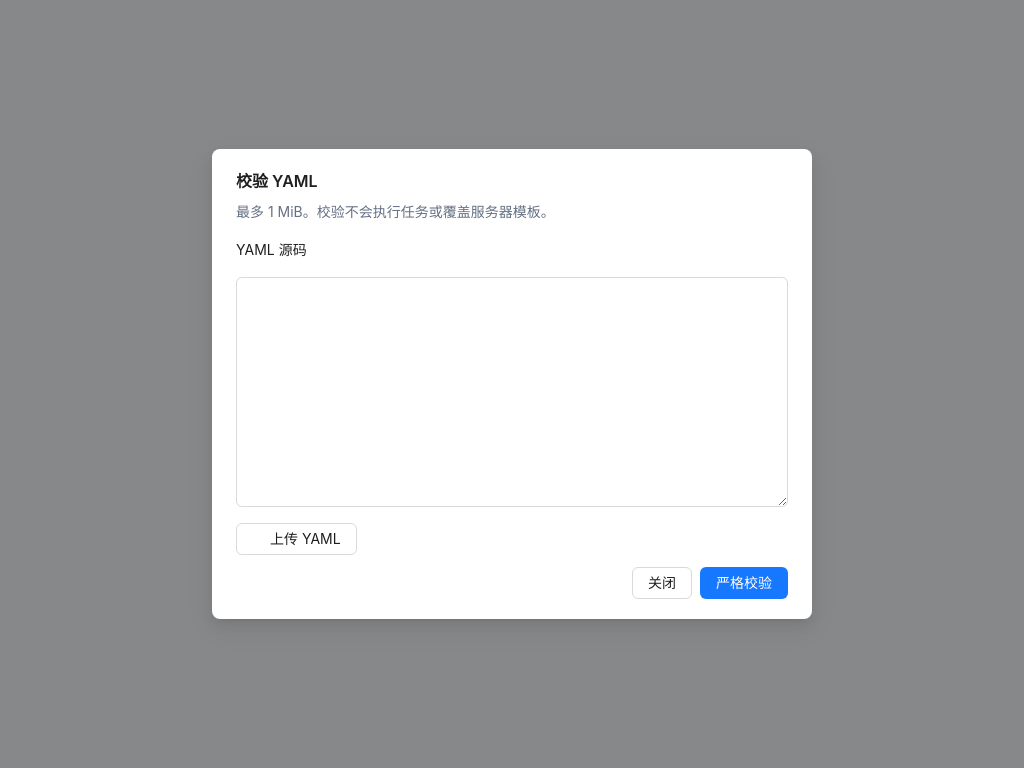
Scenario: 产物与 YAML 安全呈现 › 校验成功与上游逐字段错误显示，保留源码
In the text box labelled "YAML 源码": (512,392) [236,277,788,507], type "name: doc"
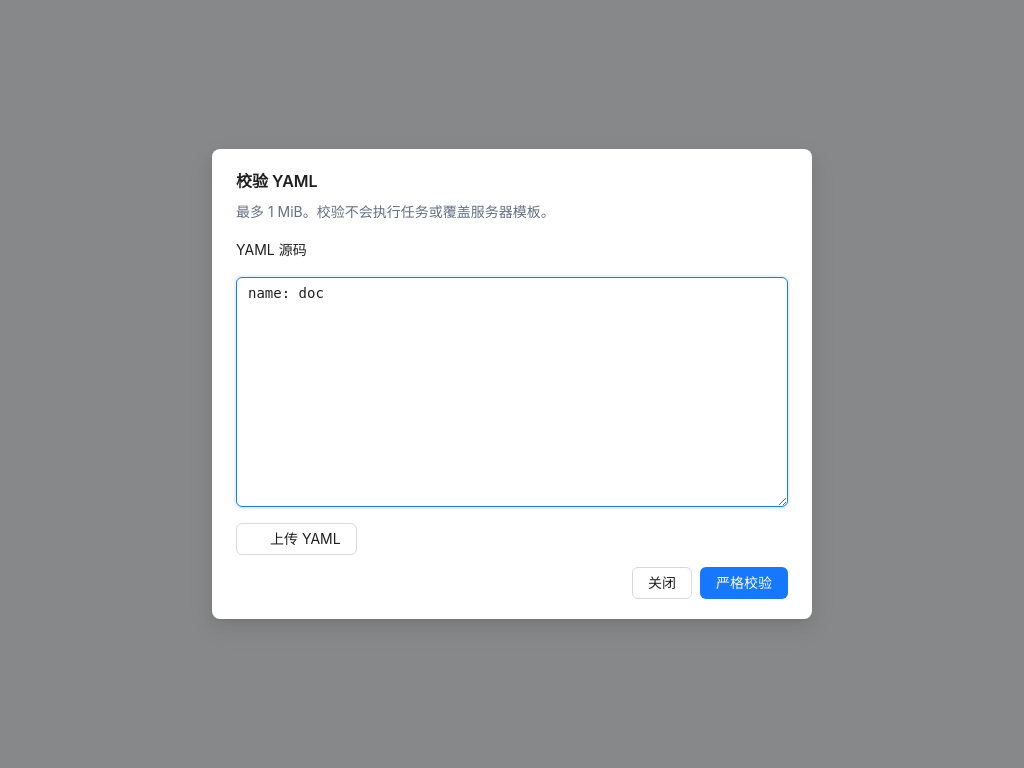
Click the button "严格校验": (744,583) [700,567,788,599]
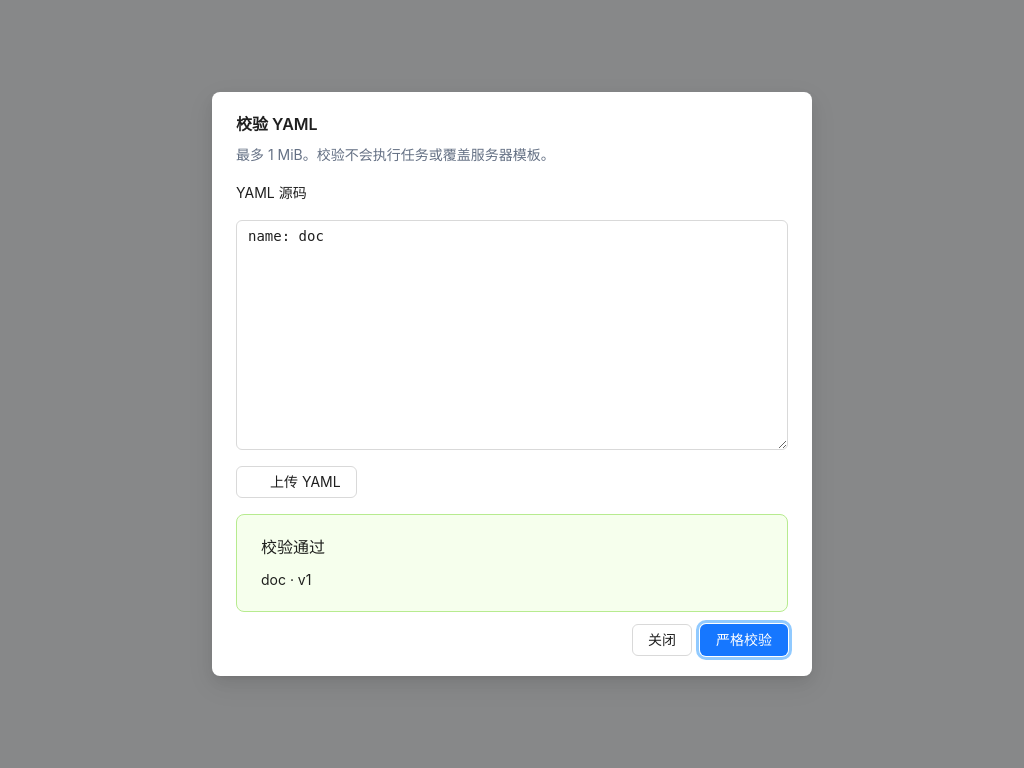
Result: the text "校验通过" is shown at [261,537,325,557]
Clear the text box labelled "YAML 源码": (512,335) [236,220,788,450]
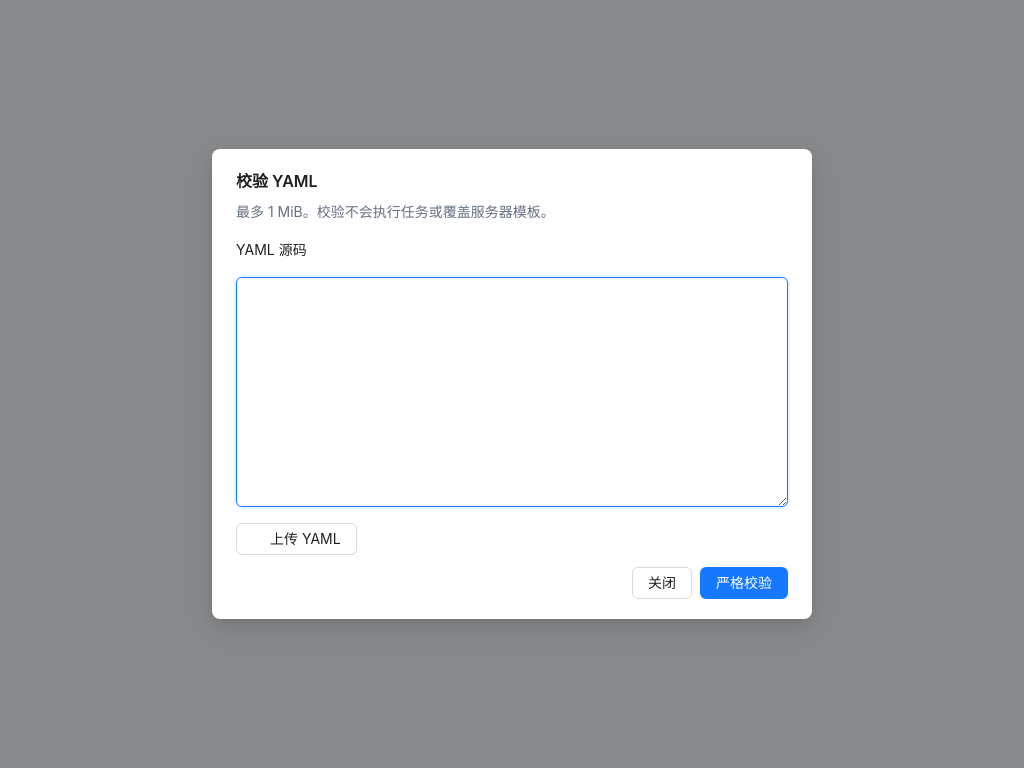
In the text box labelled "YAML 源码": (512,392) [236,277,788,507], type "invalid: true"
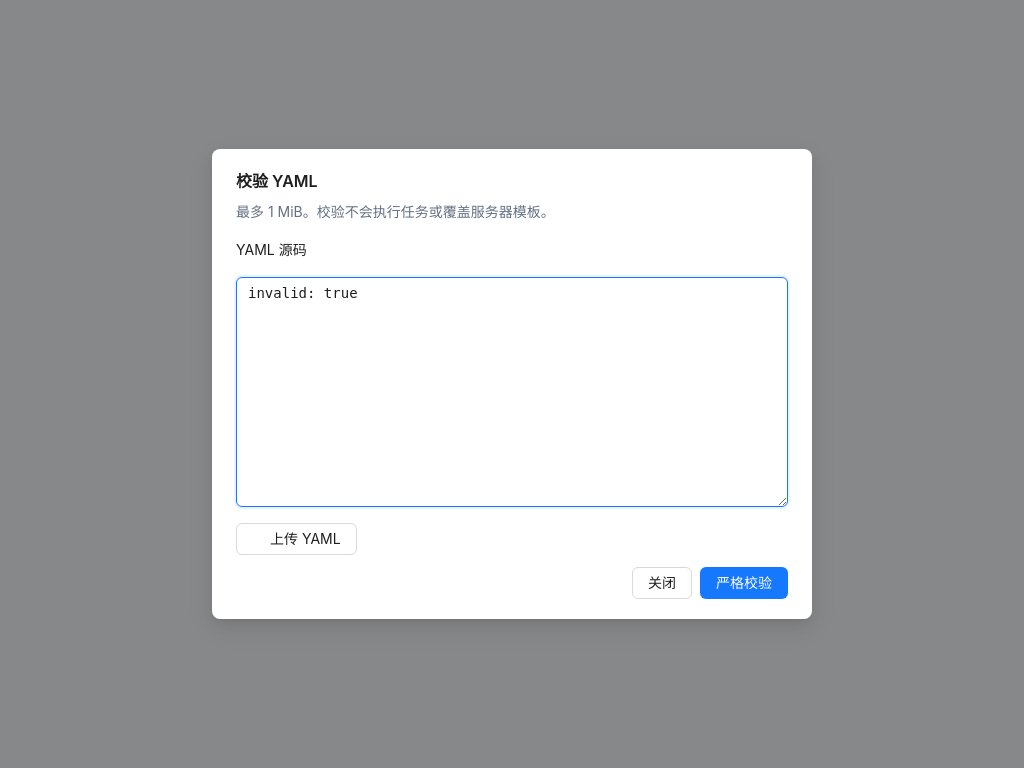
Click the button "严格校验": (744,583) [700,567,788,599]
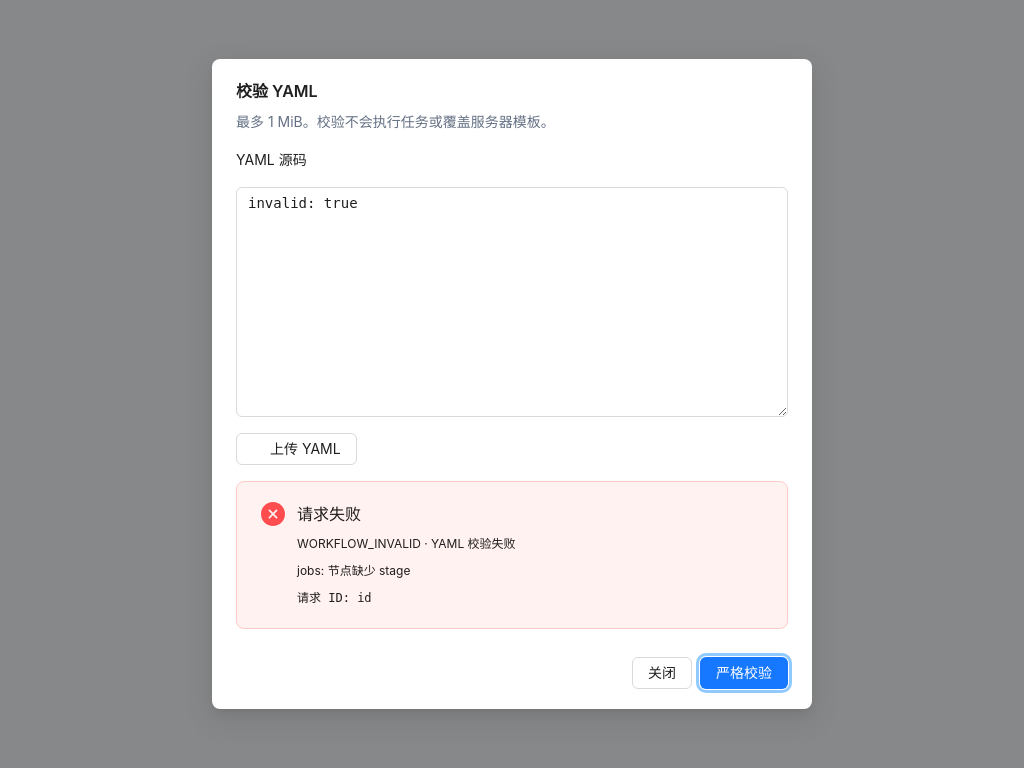
Result: the text "jobs: 节点缺少 stage" is shown at [297,563,410,578]
